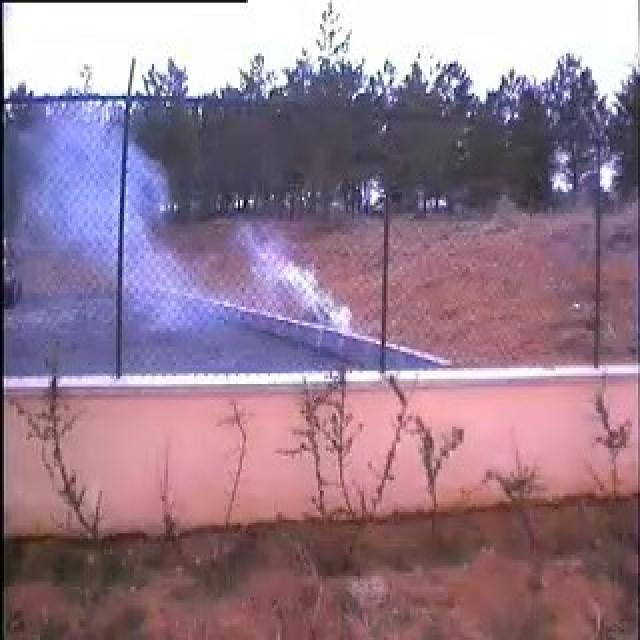smoke: (11, 108, 359, 344)
